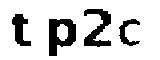2: (80, 5, 114, 51)
c: (117, 16, 142, 48)
p: (44, 16, 78, 60)
t: (8, 12, 35, 51)
